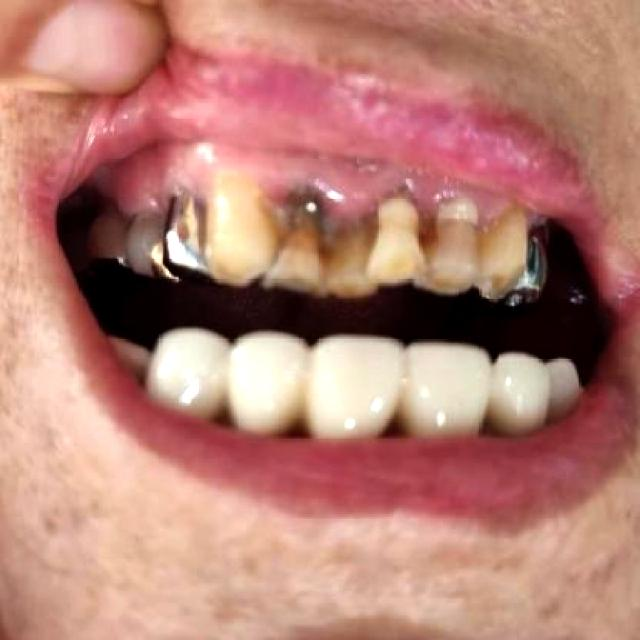Plaque: (266, 180, 346, 252)
